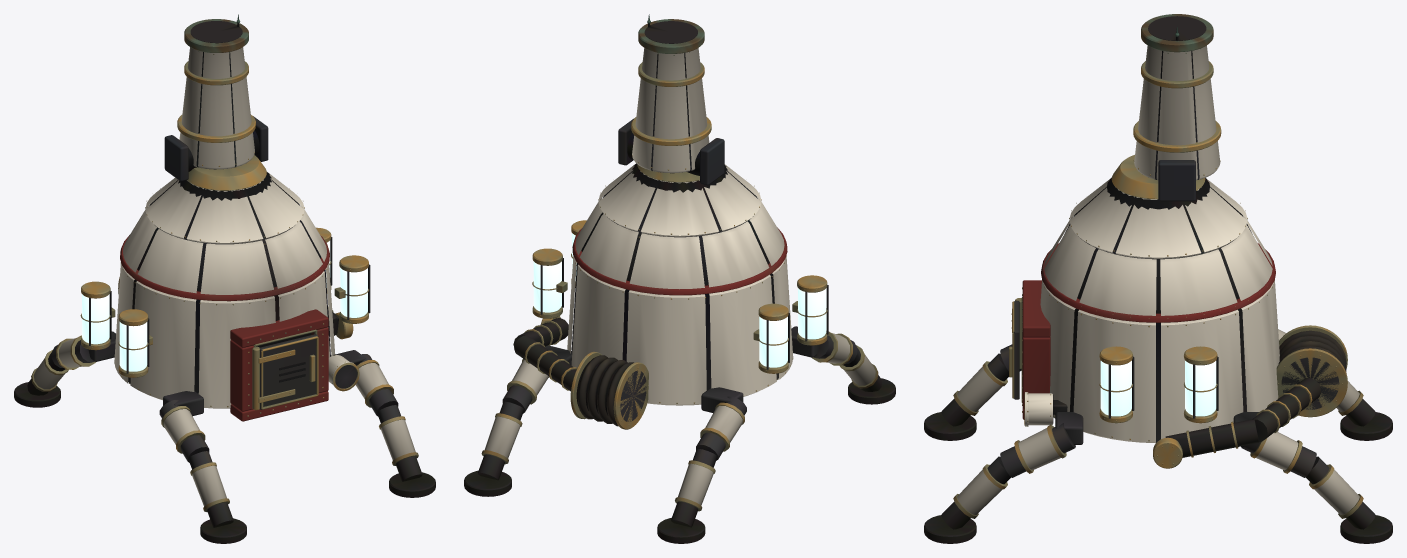
The model's file is kiln.glb.
3 renders of one model, left to right at view 1: azimuth 30°, elevation 25°; view 2: azimuth 150°, elevation 25°; view 3: azimuth 270°, elevation 25°, orthographic. The views are drawn at different scales.
Visible parts, largest first — view 1: kiln-hull, stack, door, kiln-glass; view 2: kiln-hull, stack, kiln-glass, hose; view 3: kiln-hull, stack, hose, kiln-glass, door.
Part boxes in pixels (box(x1,y1,x2,y2)): kiln-hull: box(14, 116, 435, 543); stack: box(177, 14, 255, 169); door: box(258, 334, 318, 409); kiln-glass: box(82, 240, 367, 371); kiln-hull: box(464, 118, 895, 543); stack: box(631, 14, 711, 173); kiln-glass: box(533, 233, 826, 367); hose: box(513, 316, 577, 391); kiln-hull: box(924, 155, 1392, 543); stack: box(1133, 14, 1221, 180); hose: box(1153, 378, 1321, 468); kiln-glass: box(1100, 361, 1216, 416); door: box(1009, 300, 1019, 399).
Size of what is drawn, in the model's own units: 3.45 by 5.5 by 5.
4 materials, 1 textured.
